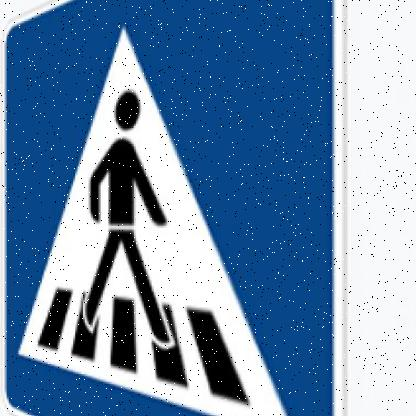Pedestrian Crossing: (1, 1, 354, 416)
